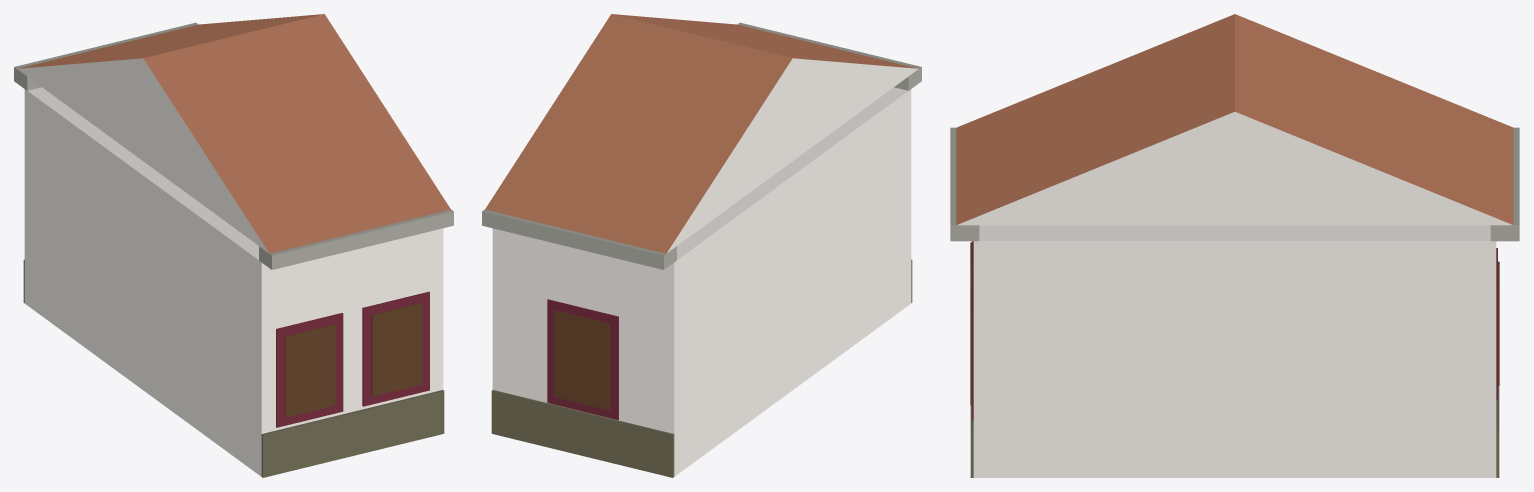
File: SM_KitCuerpo_v3_LOD0.fbx
The picture shows the model from 3 angles, left to right: view 1: azimuth 30°, elevation 25°; view 2: azimuth 150°, elevation 25°; view 3: azimuth 270°, elevation 25°; orthographic projection. The views are drawn at different scales.
Parts seen in each view (by area): view 1: SM_bloques.kit_cuerpo_v3_LOD0; view 2: SM_bloques.kit_cuerpo_v3_LOD0; view 3: SM_bloques.kit_cuerpo_v3_LOD0.
Boxes of the visible parts, left/top/right/bottom form: SM_bloques.kit_cuerpo_v3_LOD0: left=14, top=14, right=453, bottom=477; SM_bloques.kit_cuerpo_v3_LOD0: left=482, top=14, right=921, bottom=477; SM_bloques.kit_cuerpo_v3_LOD0: left=950, top=14, right=1519, bottom=477.
Size of the model in its own units: 3.99 by 6.96 by 9.8.
